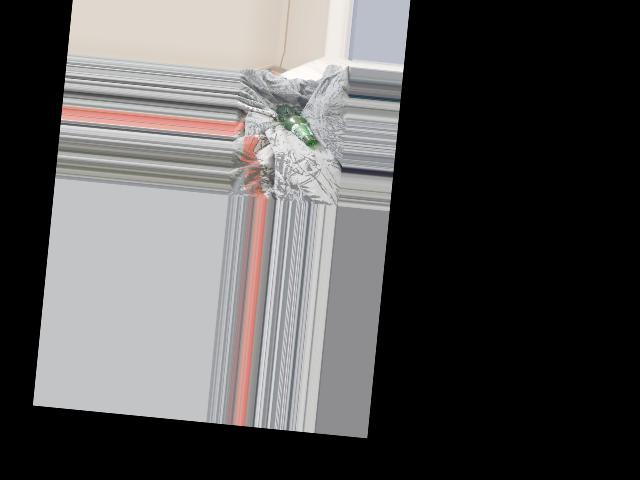beer: (273, 104, 320, 147)
